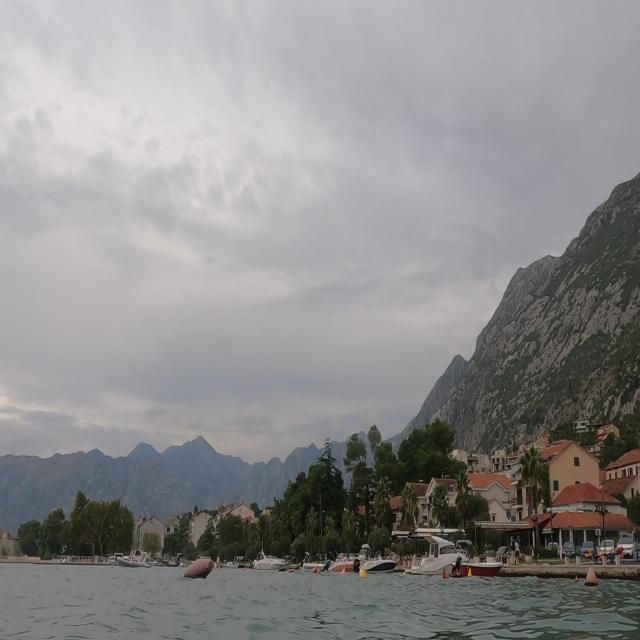boat: (404, 518, 514, 598), (332, 540, 398, 588), (249, 540, 290, 574)
buoy: (182, 551, 216, 595), (580, 556, 606, 596)
